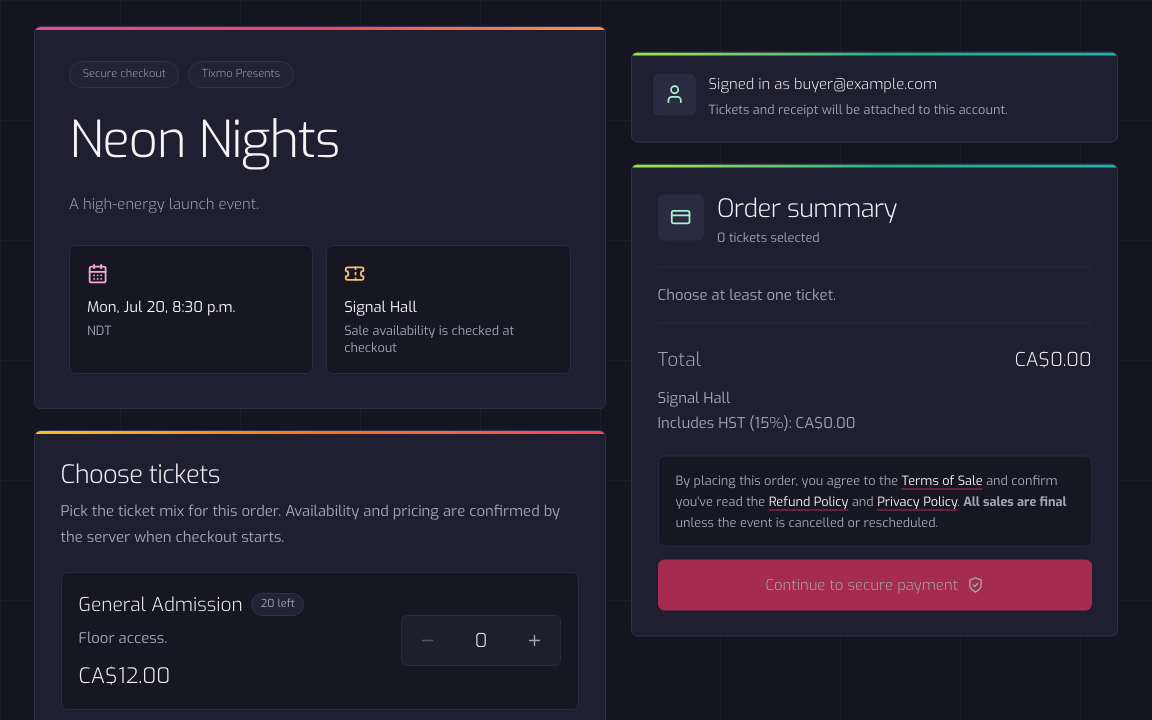
Scenario: open-page sale boundaries › changes pricing tiers at their half-open boundary and respects remaining tier capacity
Expected: the text "CA$12.00" is shown, [78,662,170,690]
Click the button named "Increase General Admission": (535, 641) [509,616,560,665]
Wait 500 ms
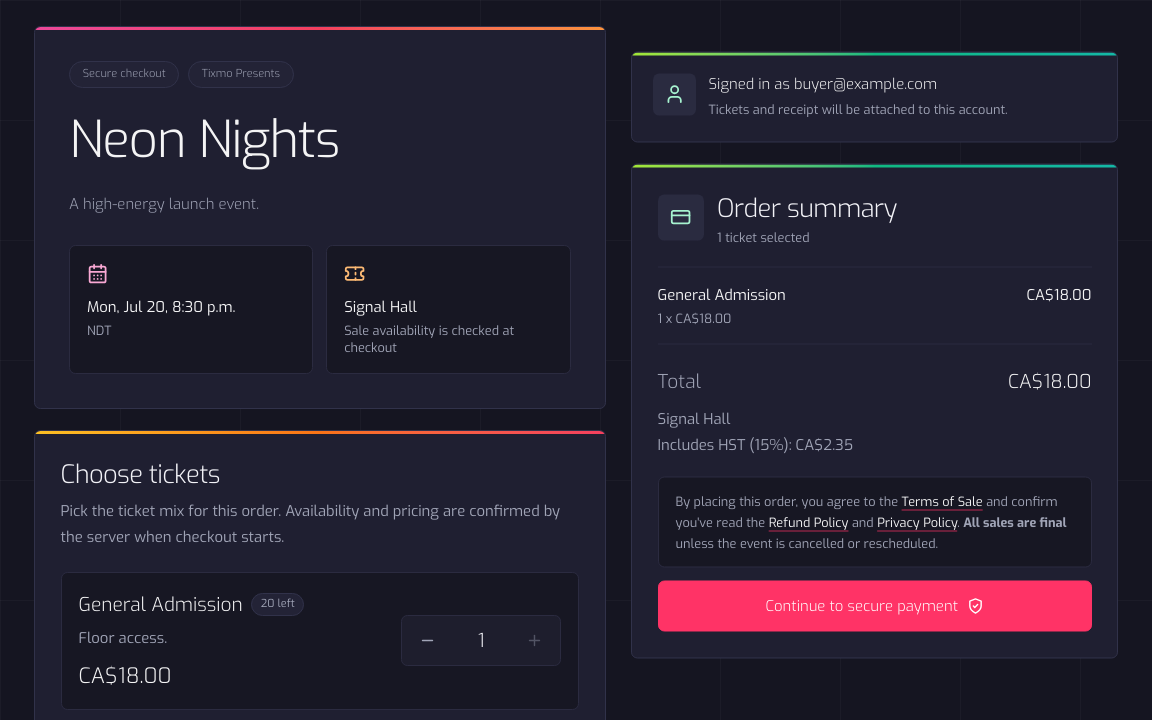
Now the text "CA$12.00" is gone
Now the text "CA$18.00" below "Floor access." is shown, box [78,662,171,690]
